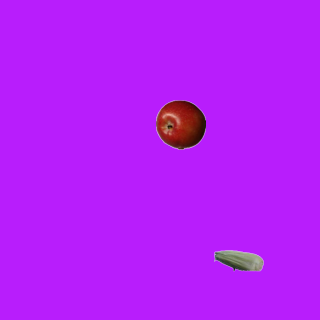Apple Braeburn: (155, 99, 205, 149)
Corn Husk: (213, 235, 263, 285)
